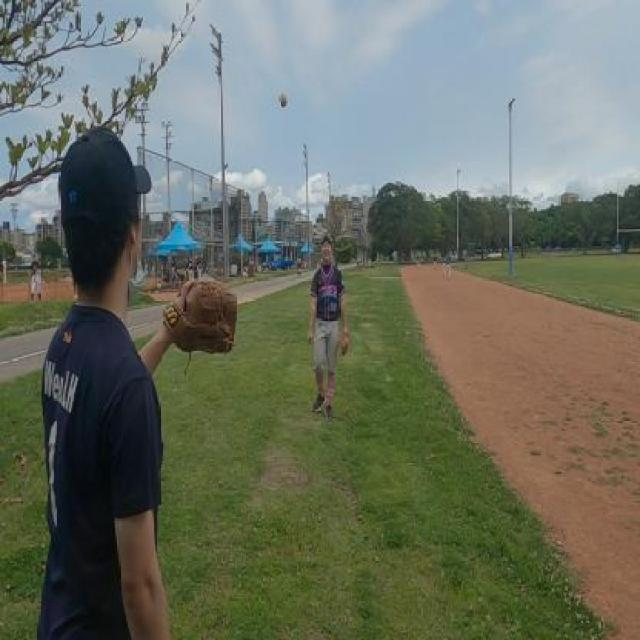baseball: (278, 92, 288, 108)
